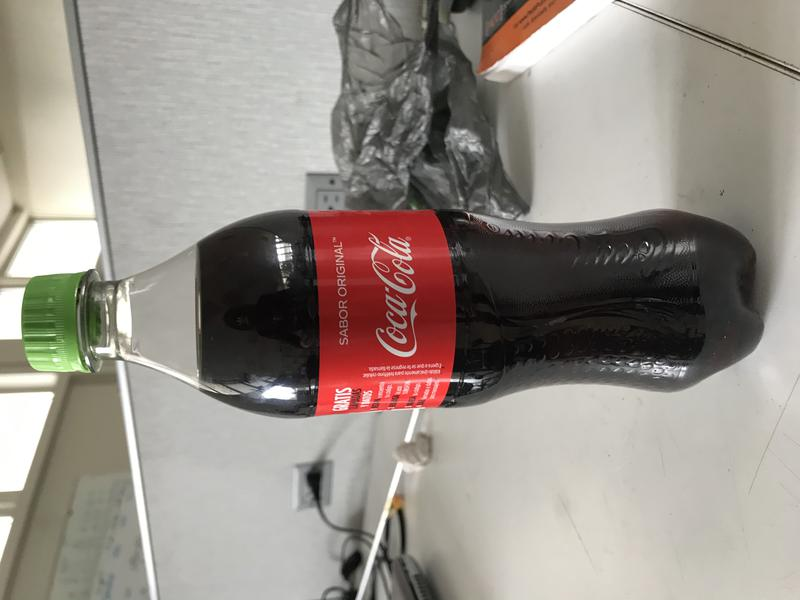coca_cola: (22, 209, 765, 420)
